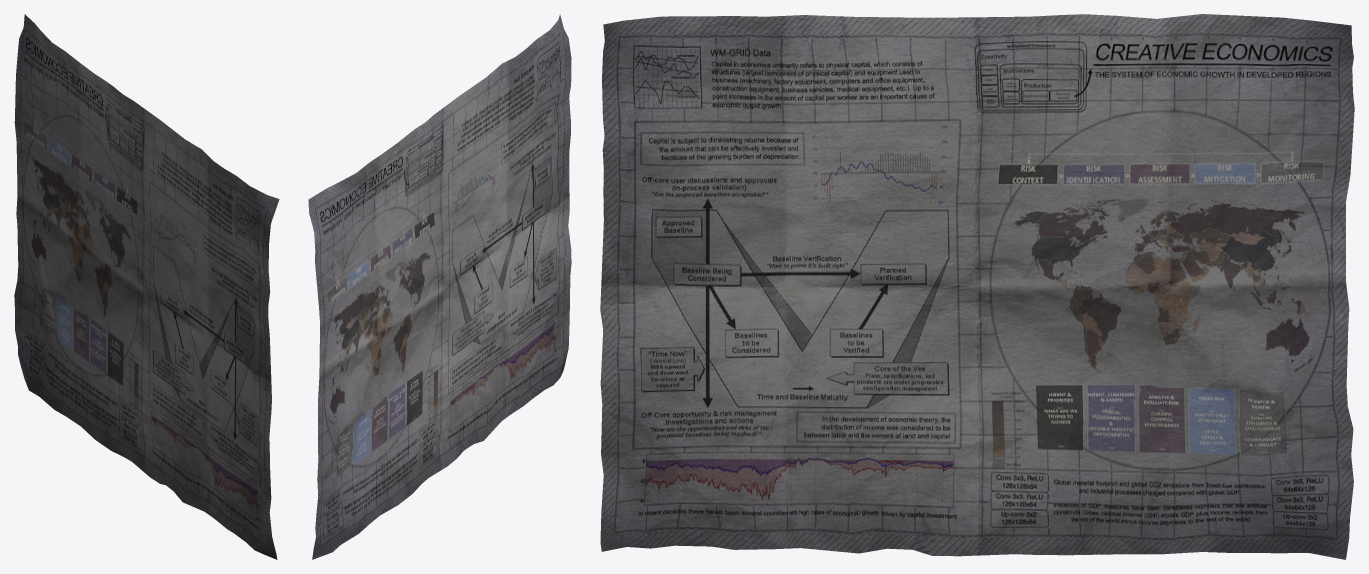
Rendered from carte1.gltf.
3 renders of one model, left to right at view 1: azimuth 30°, elevation 25°; view 2: azimuth 150°, elevation 25°; view 3: azimuth 270°, elevation 25°, orthographic. The views are drawn at different scales.
Parts seen in each view (by area): view 1: Poster_Crumpled_45; view 2: Poster_Crumpled_45; view 3: Poster_Crumpled_45.
Part boxes in pixels (left/top/right/bottom): Poster_Crumpled_45: left=14, top=14, right=279, bottom=559; Poster_Crumpled_45: left=308, top=14, right=571, bottom=559; Poster_Crumpled_45: left=600, top=14, right=1354, bottom=559.
Size of the model in its own units: 0.02 by 0.6152 by 0.7781.
1 material, 1 textured.
